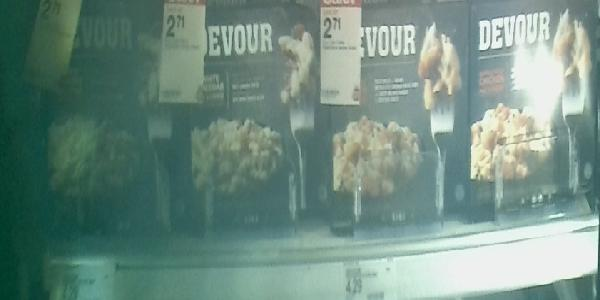pizza1: (29, 1, 177, 245), (320, 4, 465, 223), (179, 1, 317, 225), (468, 1, 596, 220)
